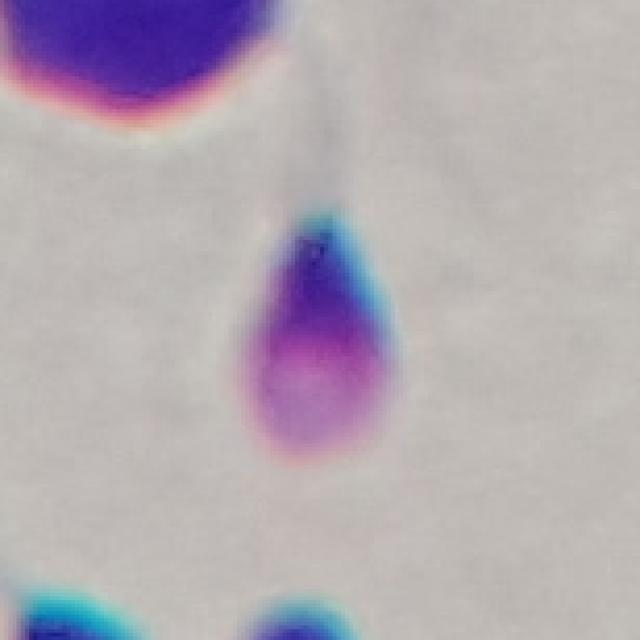normal sperm: (236, 109, 406, 462)
